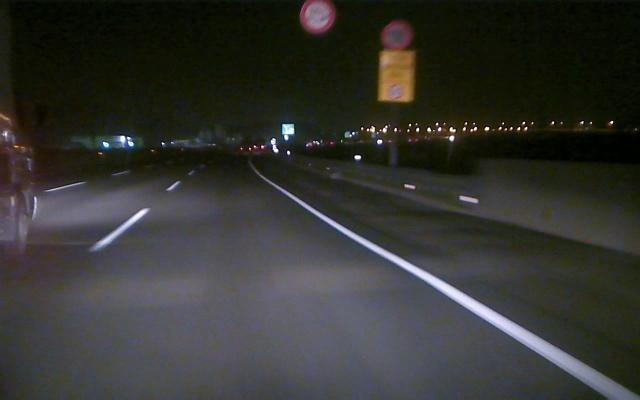lane: (264, 179, 633, 397), (87, 181, 180, 252), (44, 182, 80, 194)
